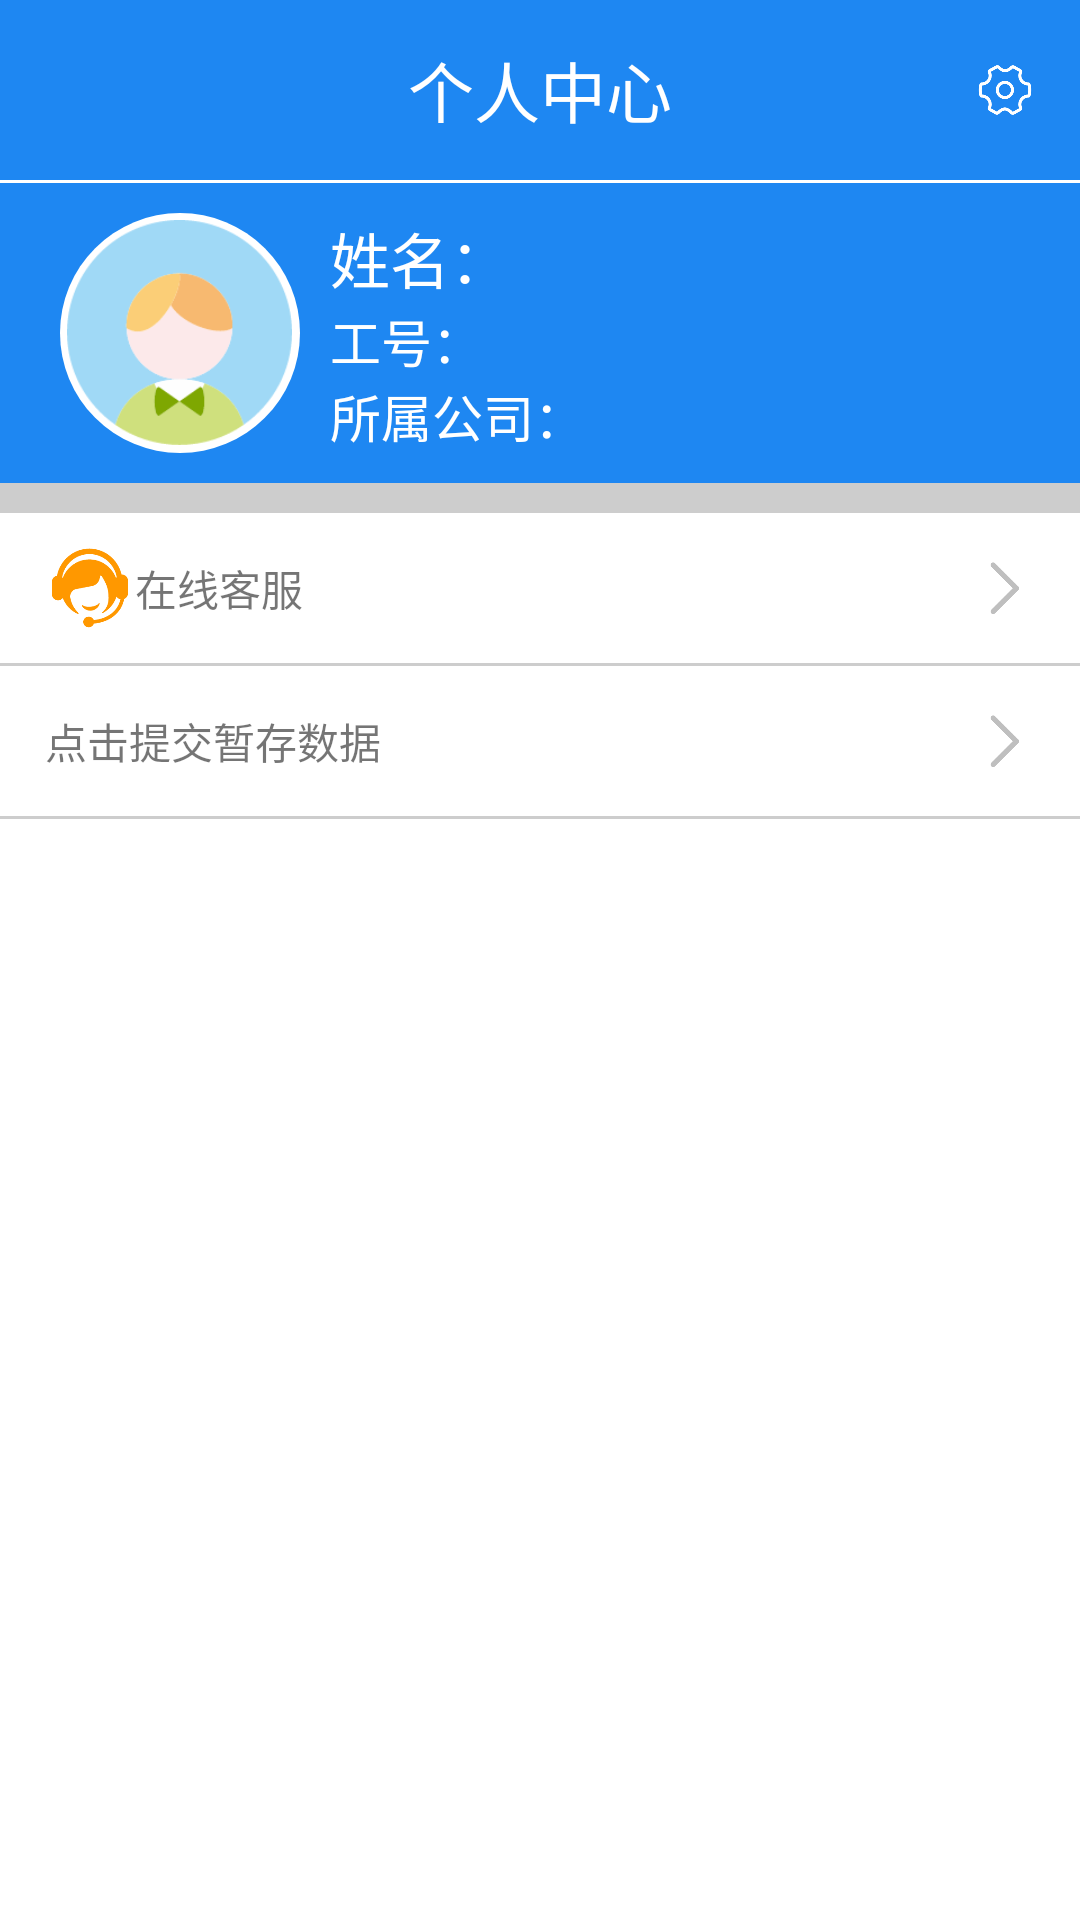

Where icons sit on this 1080px×1920px app screen, as (x1, y1, x2, y2):
customer service: (52, 548, 128, 628)
head: (67, 220, 292, 445)
next: (991, 562, 1019, 614), (991, 715, 1019, 767)
setting: (979, 65, 1031, 115)
